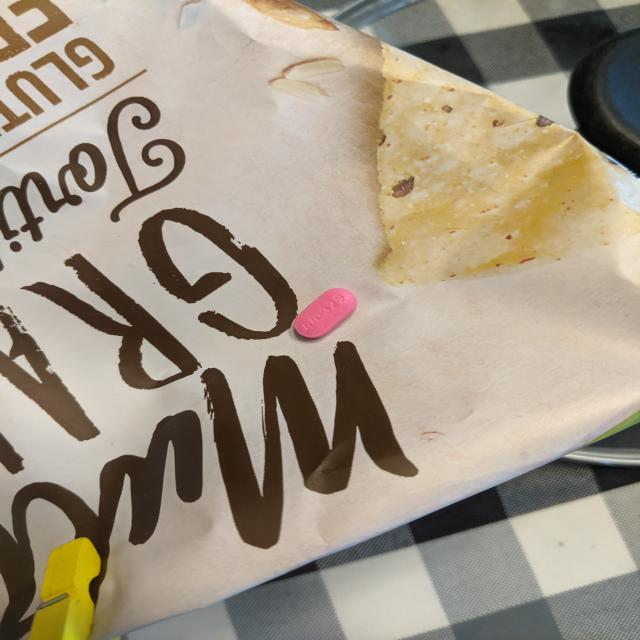non-organic waste: (293, 287, 358, 339)
